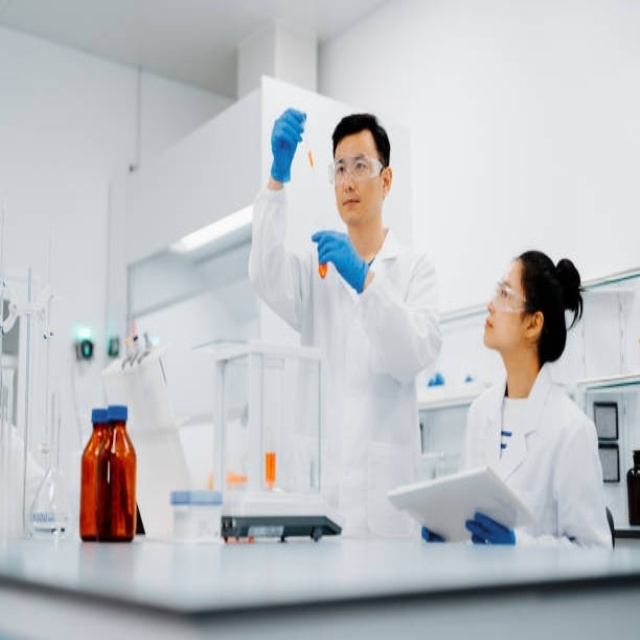Gafas: (330, 155, 385, 185), (491, 281, 531, 313)
Guantes: (310, 224, 370, 293), (268, 104, 308, 177), (464, 507, 517, 554)
Sin_mascara: (480, 307, 501, 350), (337, 191, 367, 221)
